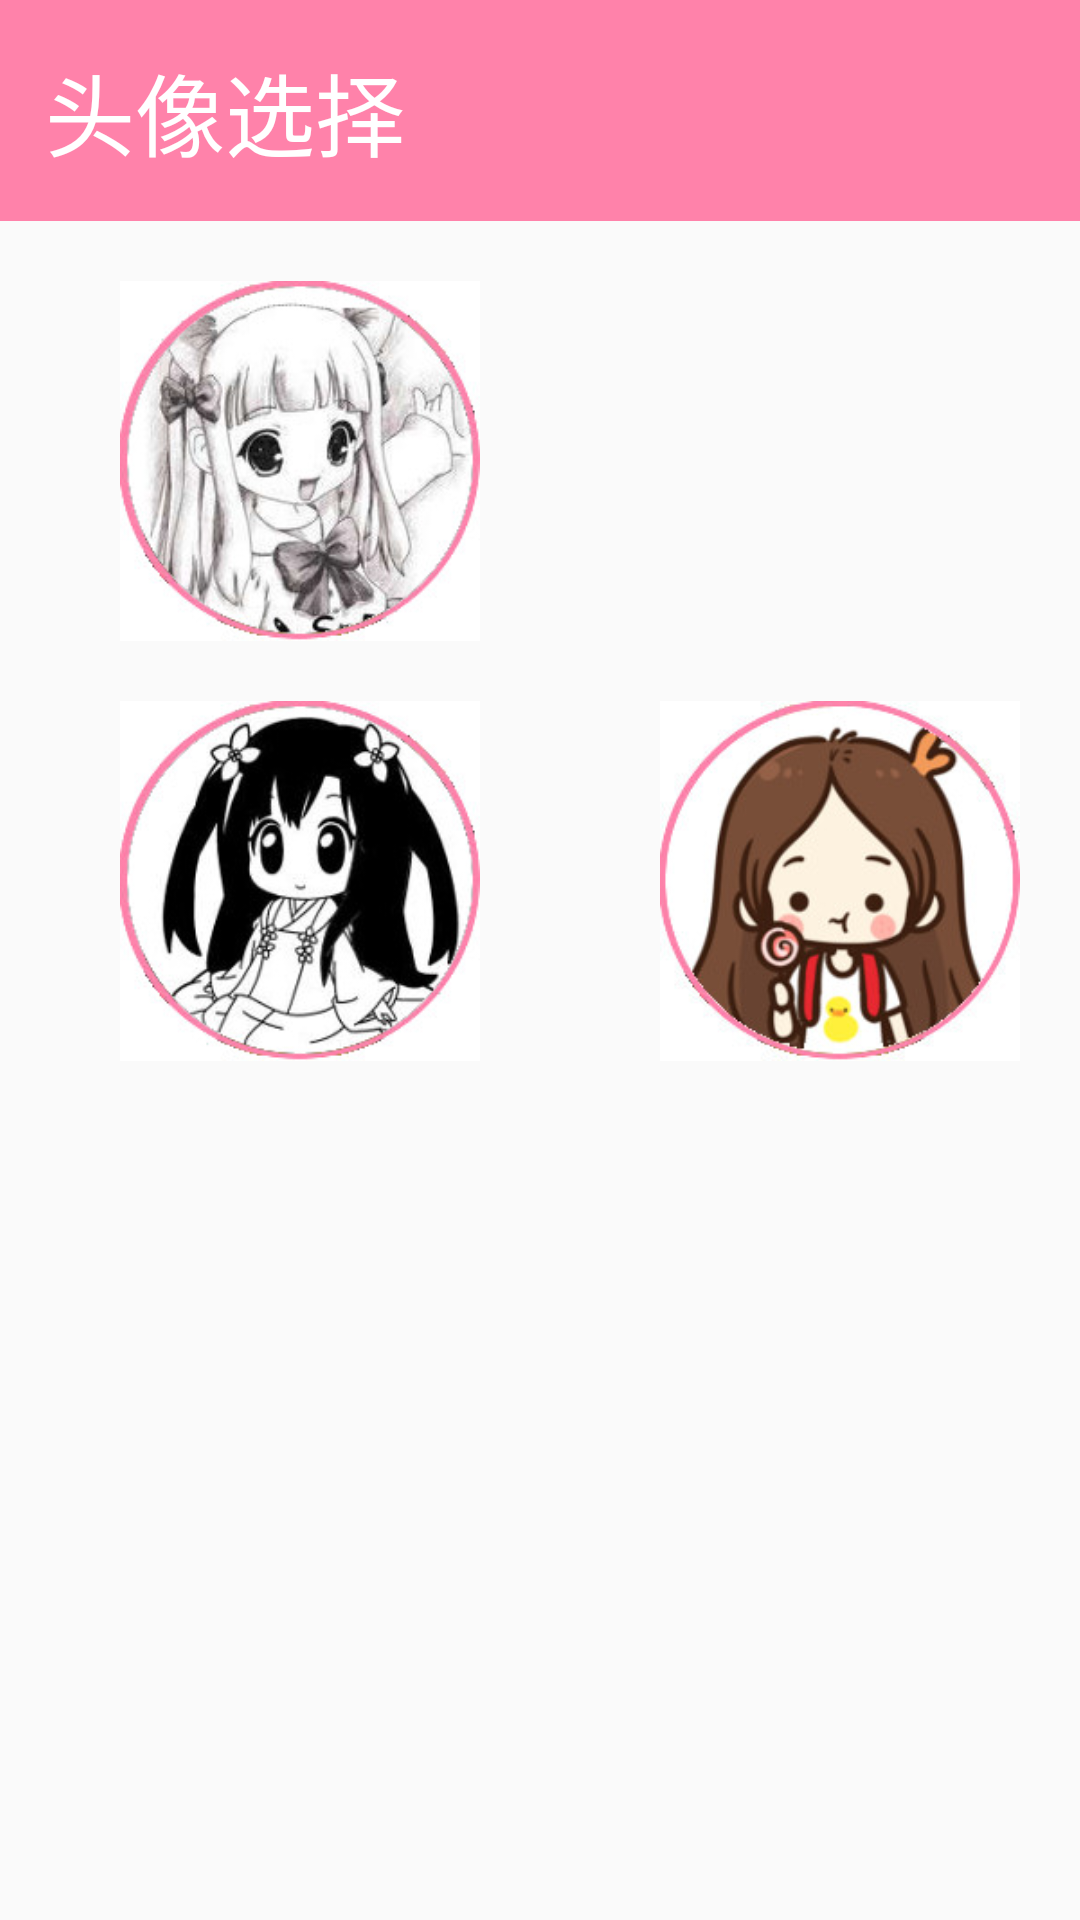

Named icons in this screenshot (1080 × 1920) and their bounding boxes, (x1, y1, x2, y2):
pic head: (120, 281, 480, 640), (120, 701, 480, 1060), (660, 701, 1020, 1060)
